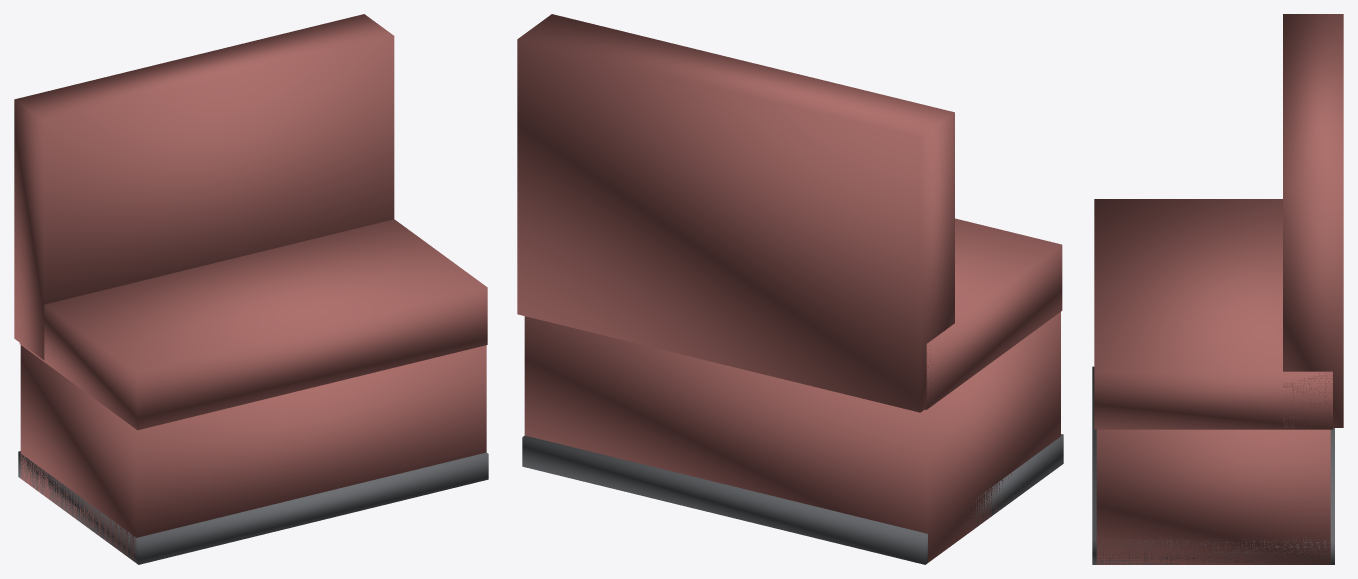
The model's file is diner_booth_single__deep.glb.
3 renders of one model, left to right at view 1: azimuth 30°, elevation 25°; view 2: azimuth 150°, elevation 25°; view 3: azimuth 270°, elevation 25°, orthographic. The views are drawn at different scales.
Parts seen in each view (by area): view 1: world; view 2: world; view 3: world.
Part boxes in pixels (<box>): world: <box>14,14,488,564</box>; world: <box>517,14,1063,564</box>; world: <box>1092,14,1343,564</box>.
Size of the model in its own units: 1.15 by 1.17 by 0.7076.
